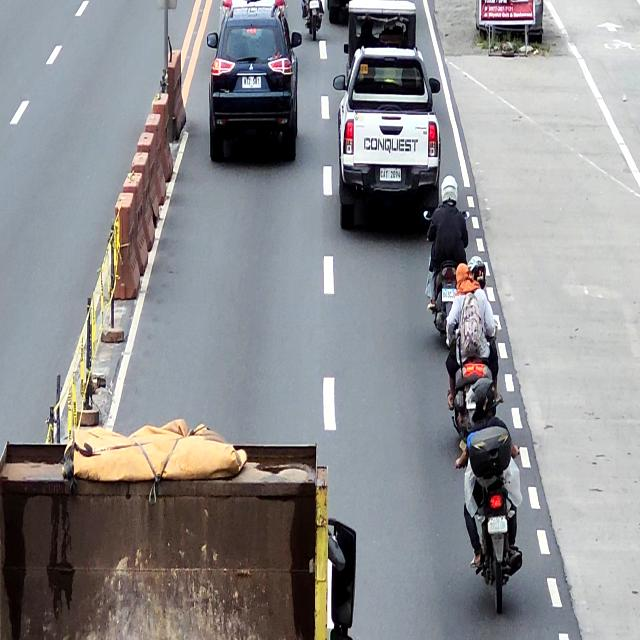Car: (332, 47, 441, 230), (206, 5, 302, 162), (344, 0, 417, 76)
License-Plate: (487, 517, 508, 534), (379, 168, 402, 182), (241, 76, 262, 88), (441, 289, 458, 303), (309, 0, 320, 8)
Motorcycle: (460, 429, 519, 617), (446, 314, 501, 434), (423, 210, 470, 338), (301, 0, 322, 39)
Truck: (0, 430, 358, 640)
